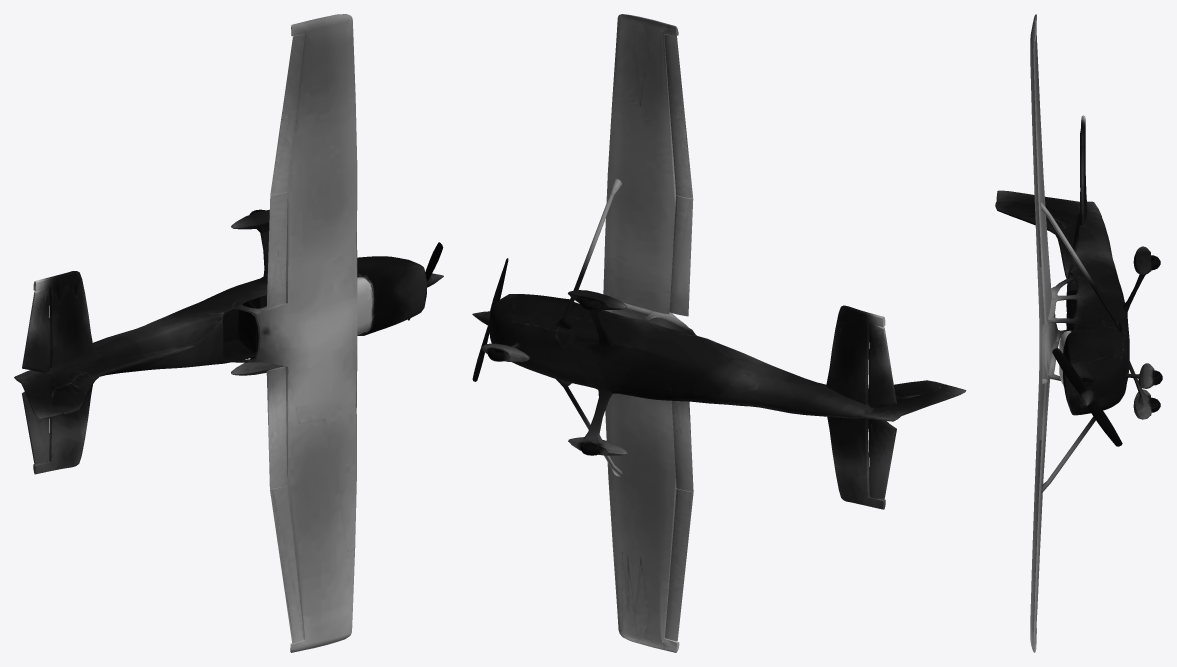
File: airplane_c172.obj
3 renders of one model, left to right at view 1: azimuth 30°, elevation 25°; view 2: azimuth 150°, elevation 25°; view 3: azimuth 270°, elevation 25°, orthographic. The views are drawn at different scales.
Bounding box in the file's own units: 8.28 × 11.05 × 2.73.
Materials: 2 (2 with a texture image).
